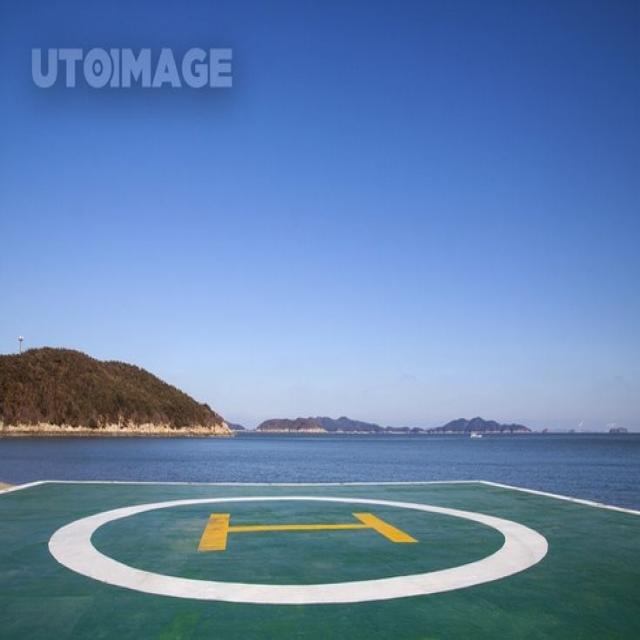helipad: (44, 487, 550, 609)
